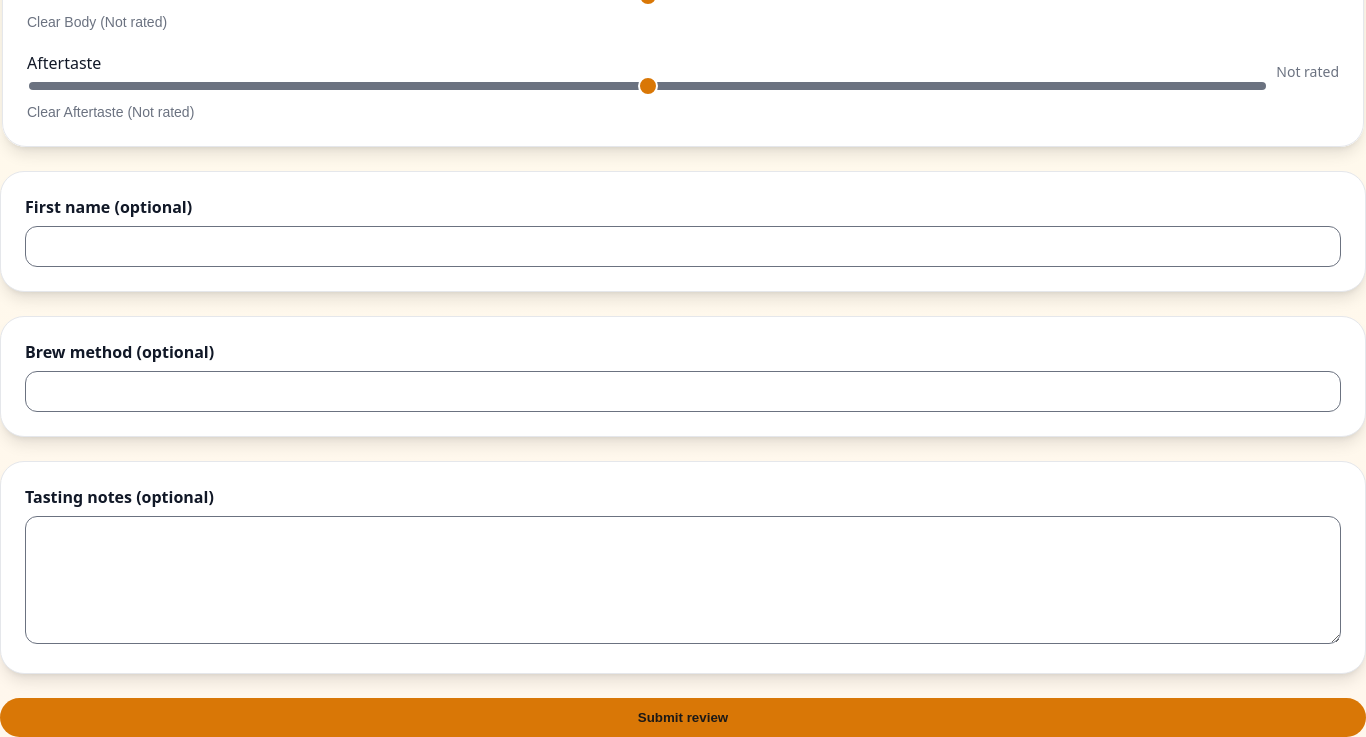
Test case: ReviewForm interactions › blocks a submission without a score
(page scrolled)
Click the button "Submit review". click: (683, 718)
box: [0,698,1365,736]
(page scrolled)
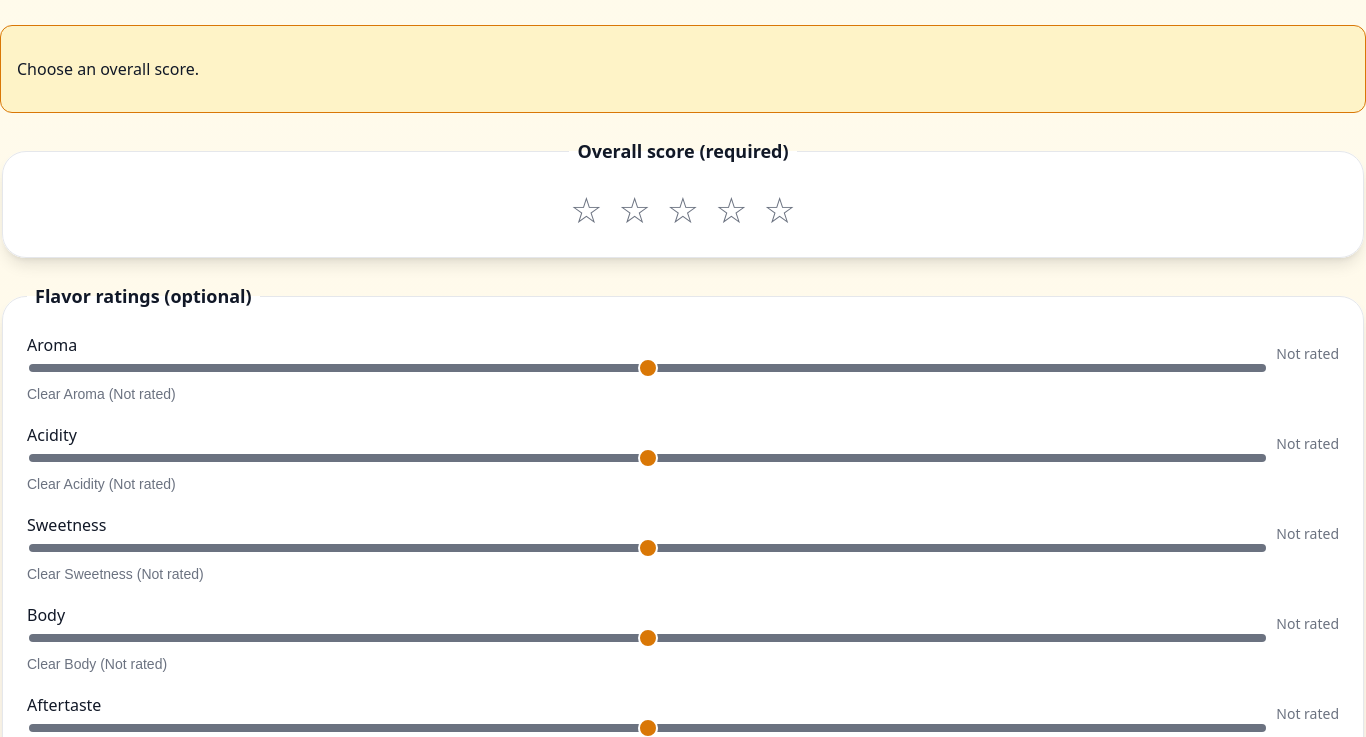
Check: the message shows "Choose an overall score", box [17,58,199,80]
